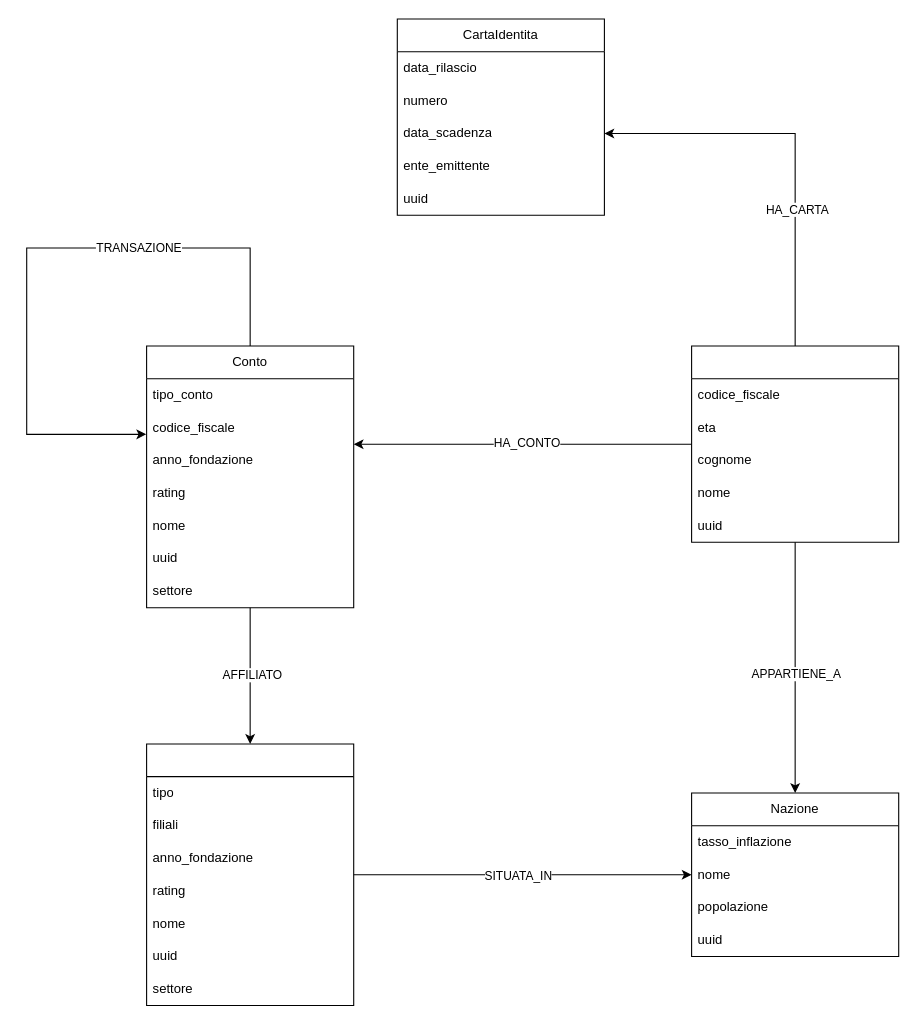
Some shapes in this 918 by 1025 pixel diagram are drawn without their labels. The box of each missing label's shape, as (x1, y1, x2, y2) in pixels:
Banca: (146, 743, 354, 1006)
Persona: (691, 345, 899, 542)
